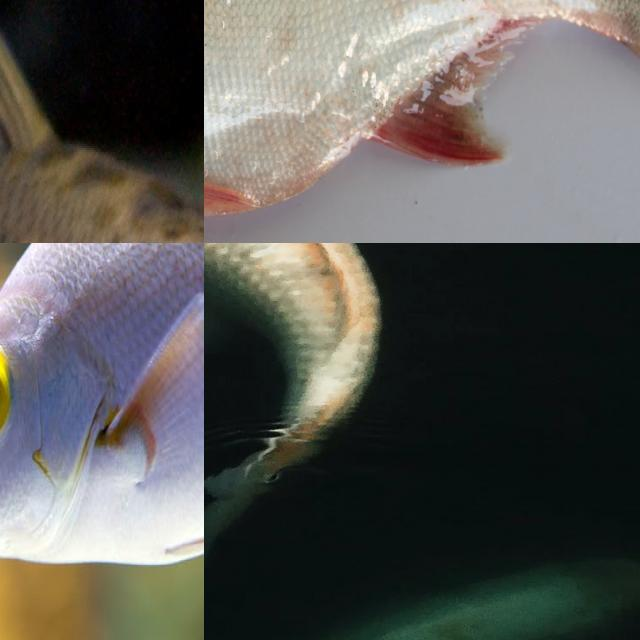fish: (204, 0, 640, 243), (0, 0, 204, 243), (204, 243, 318, 640)
